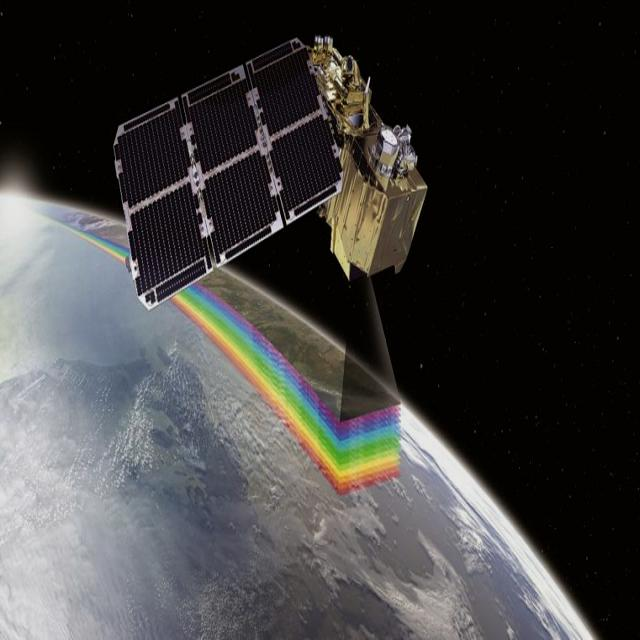satellite: (105, 30, 432, 324)
